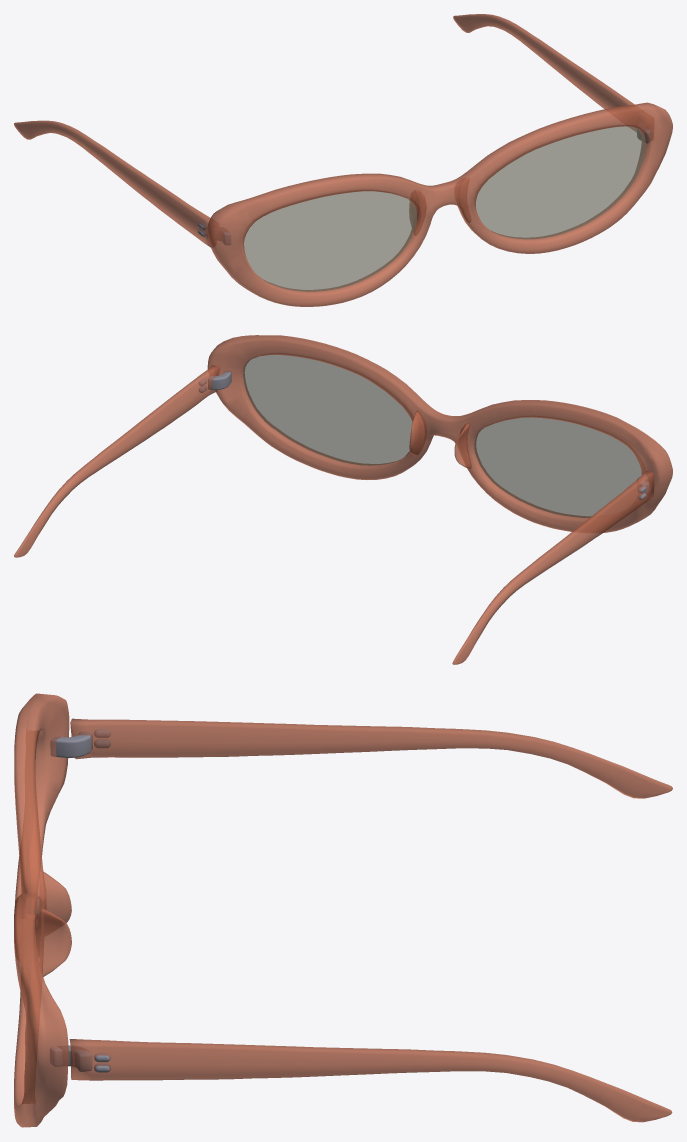
The model's file is chestnut.glb.
The picture shows the model from 3 angles, top to bottom: view 1: azimuth 30°, elevation 25°; view 2: azimuth 150°, elevation 25°; view 3: azimuth 270°, elevation 25°; orthographic projection. The views are drawn at different scales.
Visible parts, largest first — view 1: model_6.006; view 2: model_6.006; view 3: model_6.006.
Part boxes in pixels (x1=…): model_6.006: x1=14, y1=14, x2=672, y2=306; model_6.006: x1=14, y1=335, x2=672, y2=664; model_6.006: x1=14, y1=693, x2=672, y2=1127.
Size of the model in its own units: 2.21 by 0.5738 by 1.81.
